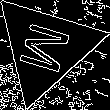M_E: (14, 18, 77, 77)
